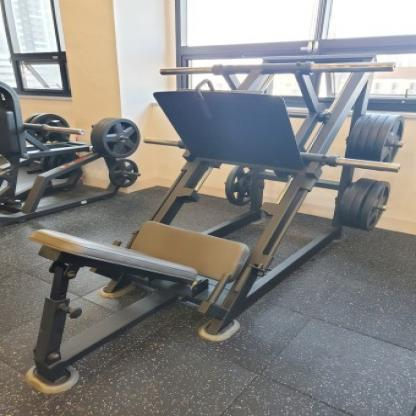leg press: (20, 41, 411, 395)
